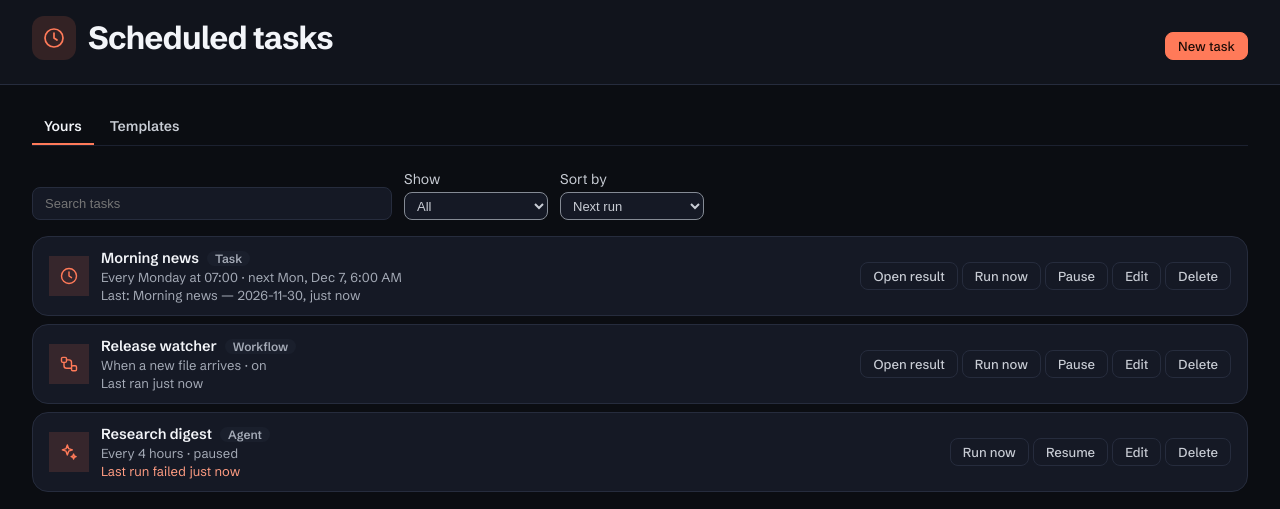
ScheduledPage › filters by kind and searches by name
Check: the list named "Yours" is shown, box left=32, top=236, right=1248, bottom=492
Select "Agents" in the dropdown labelled "Show". click: (476, 206)
box: left=404, top=192, right=548, bottom=220
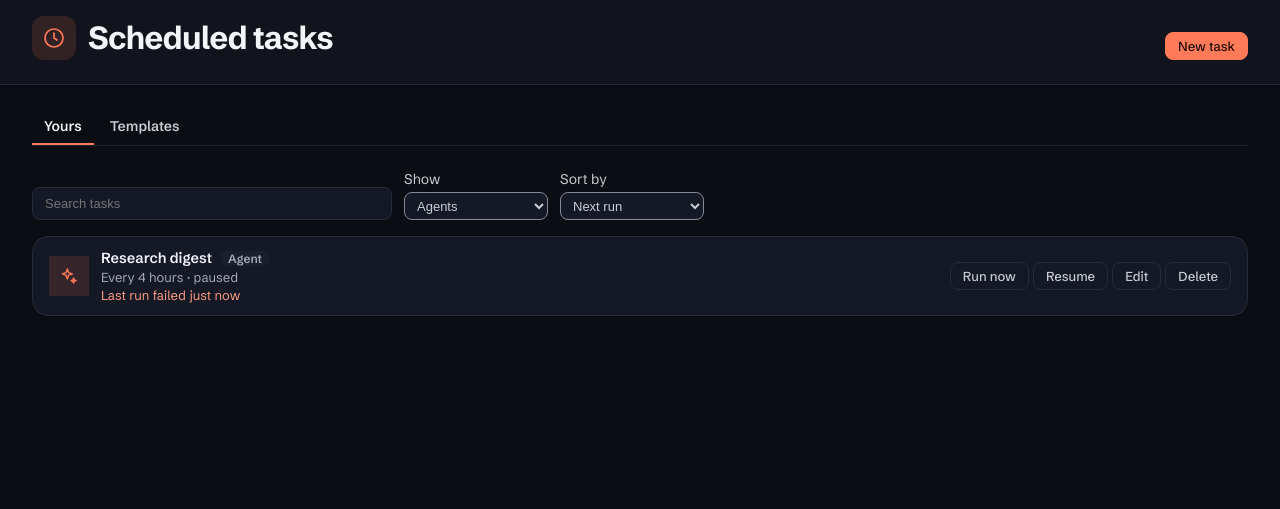
Check: the text "Research digest" is shown, box left=101, top=249, right=212, bottom=267
Check: the number of list items is 1, box left=32, top=236, right=1248, bottom=316
Select "All" in the dropdown labelled "Show". click: (476, 206)
box: left=404, top=192, right=548, bottom=220
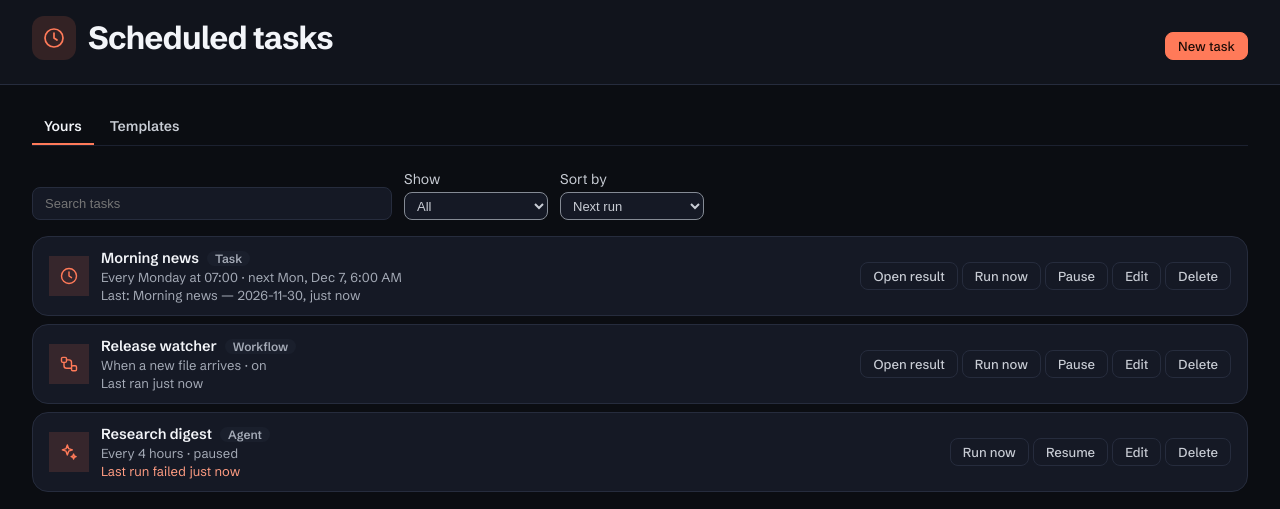
Type "release" into the search field labelled "Search tasks". click: (212, 204)
box: left=32, top=187, right=392, bottom=220
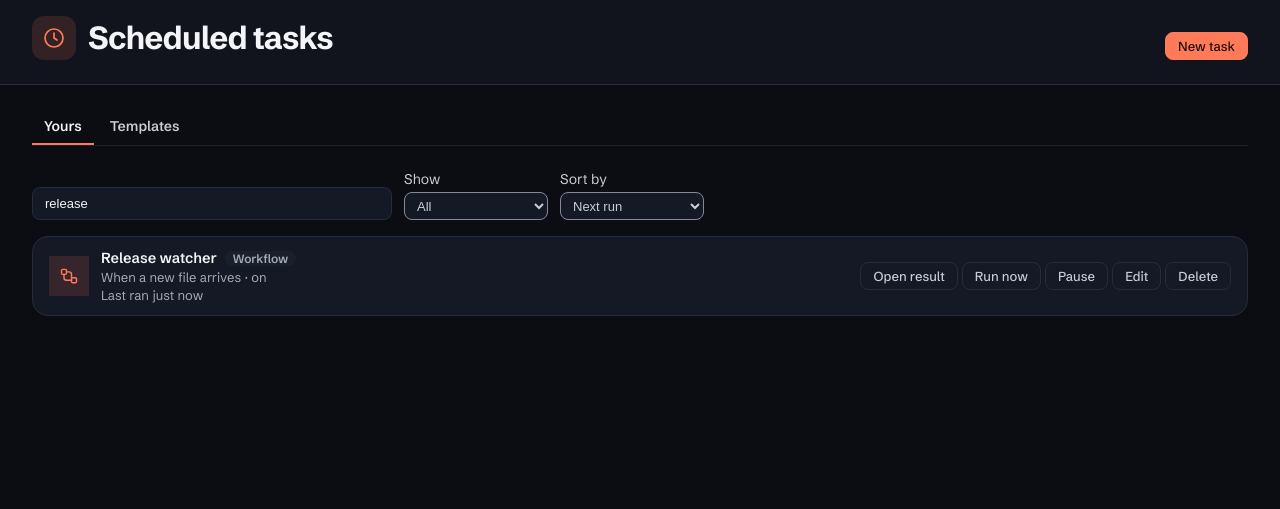
Check: the number of list items is 1, box left=32, top=236, right=1248, bottom=316
Replace the text in the search field named "Search tasks" with "nothing like it". click: (212, 204)
box: left=32, top=187, right=392, bottom=220
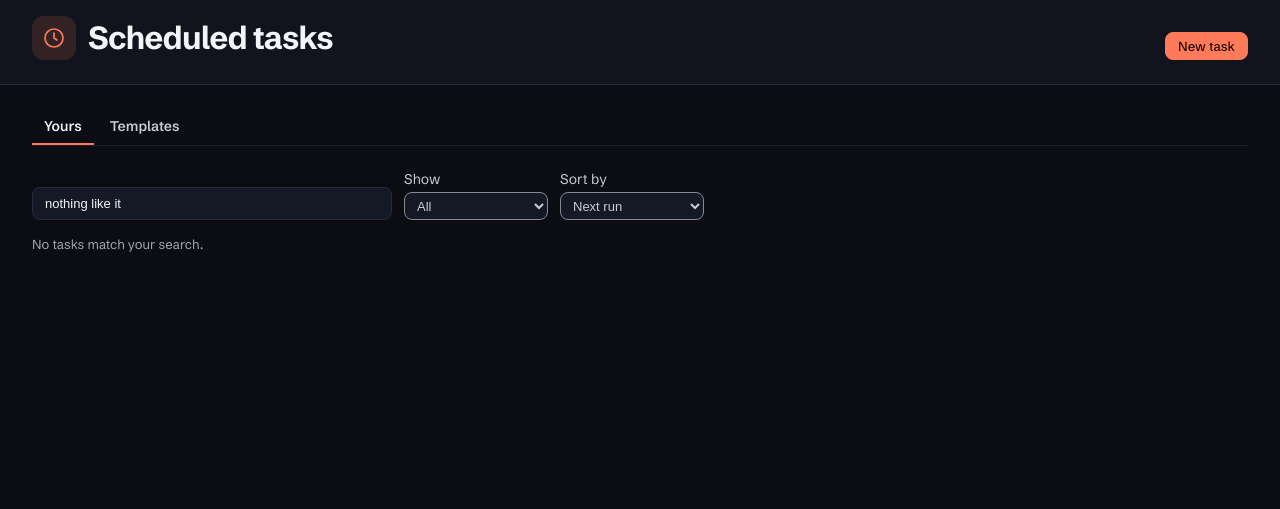
Check: the text "No tasks match your search." is shown, box left=32, top=236, right=203, bottom=252
